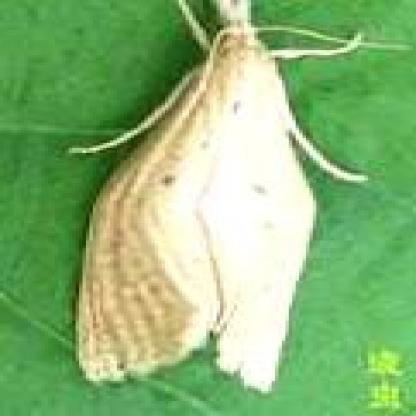stem-borer: (65, 0, 354, 396)
